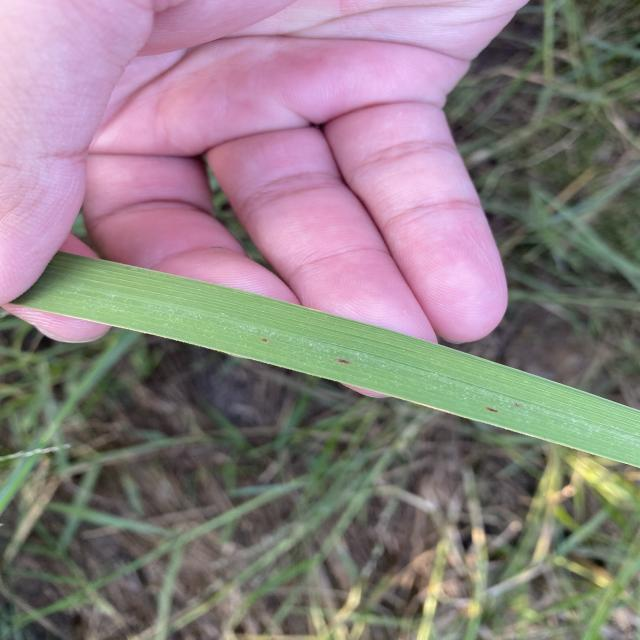Dom nau: (487, 407, 498, 413), (337, 359, 349, 364), (263, 339, 267, 341)
